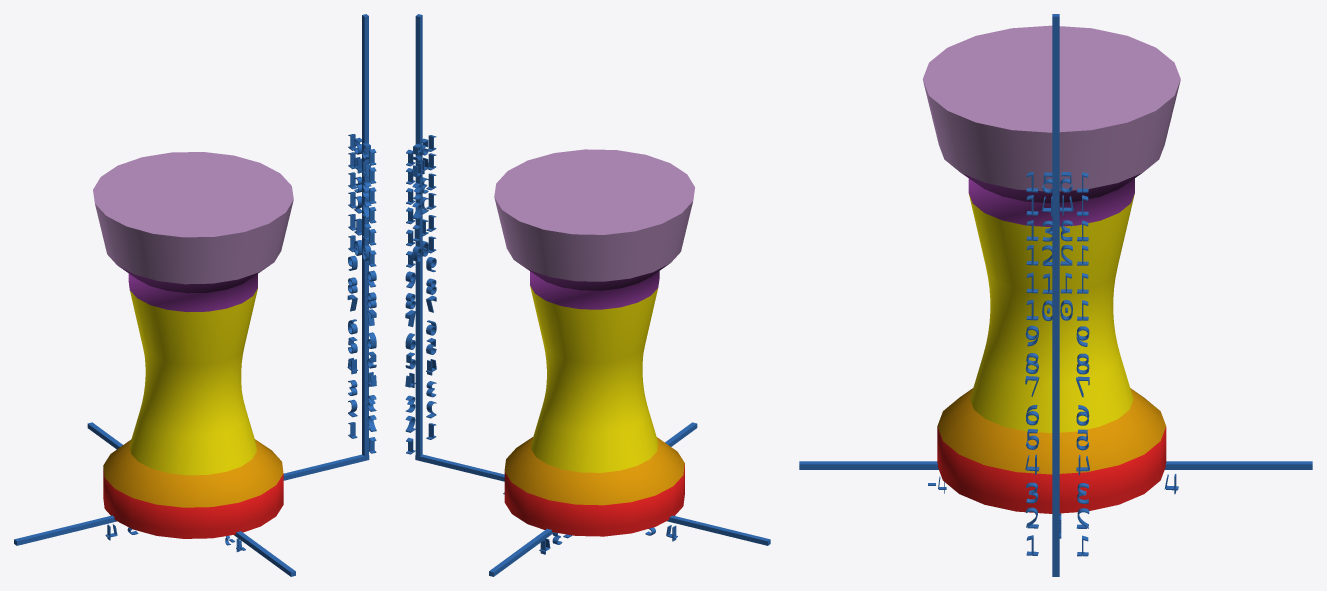
The model's file is torre2.0.glb.
3 renders of one model, left to right at view 1: azimuth 30°, elevation 25°; view 2: azimuth 150°, elevation 25°; view 3: azimuth 270°, elevation 25°, orthographic. The views are drawn at different scales.
Parts seen in each view (by area): view 1: pasted__pasted__pCylinder1, pasted__pCube1.001, pCube1, pasted__pCube1; view 2: pasted__pasted__pCylinder1, pasted__pCube1.001, pCube1, pasted__pCube1; view 3: pasted__pasted__pCylinder1, pasted__pCube1.001, pasted__pCube1.
Boxes of the visible parts, left/top/right/bottom form: pasted__pasted__pCylinder1: left=93, top=152, right=293, bottom=538; pasted__pCube1.001: left=362, top=14, right=368, bottom=457; pCube1: left=14, top=454, right=369, bottom=545; pasted__pCube1: left=87, top=422, right=295, bottom=576; pasted__pasted__pCylinder1: left=494, top=149, right=694, bottom=536; pasted__pCube1.001: left=415, top=14, right=422, bottom=459; pCube1: left=415, top=454, right=770, bottom=545; pasted__pCube1: left=489, top=422, right=697, bottom=576; pasted__pasted__pCylinder1: left=922, top=25, right=1180, bottom=513; pasted__pCube1.001: left=1052, top=14, right=1059, bottom=571; pasted__pCube1: left=799, top=461, right=1312, bottom=469.
Bounding box in the file's own units: 0.1803 × 0.2261 × 0.1803.
